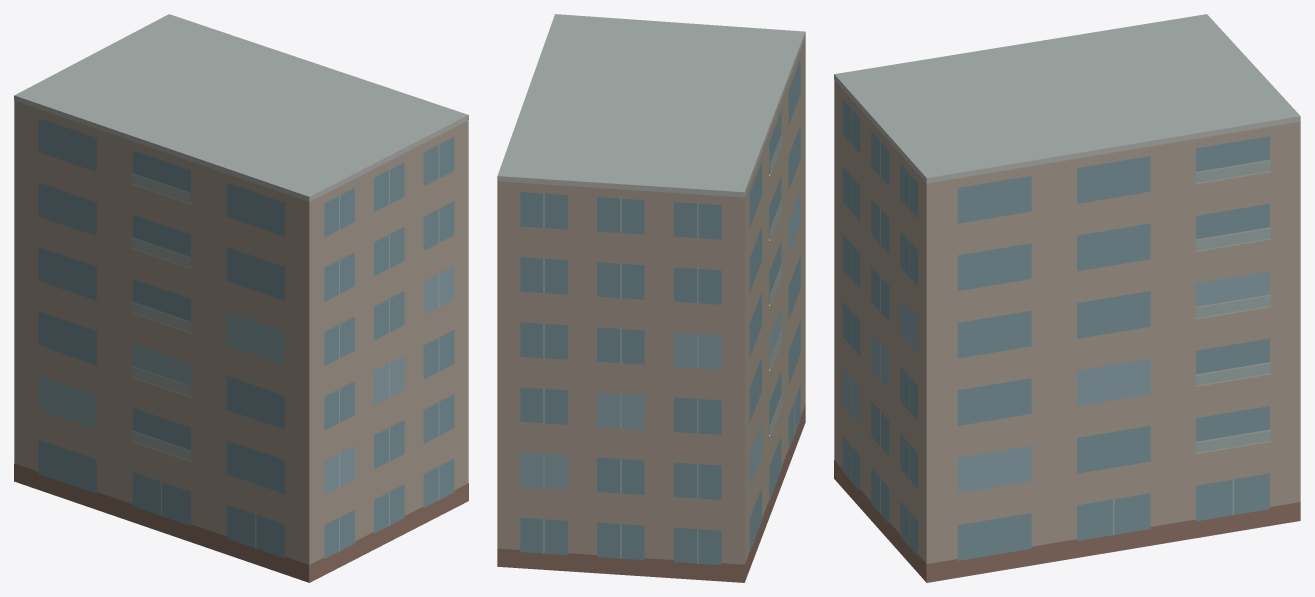
Rendered from survey-upis-32986943.glb.
3 views of the same model, side by side, from view 1: azimuth 30°, elevation 25°; view 2: azimuth 150°, elevation 25°; view 3: azimuth 270°, elevation 25° (orthographic). The views are drawn at different scales.
Visible parts, largest first — view 1: survey-upis-32986943.tmp; view 2: survey-upis-32986943.tmp; view 3: survey-upis-32986943.tmp.
Part boxes in pixels (box(x1,y1,x2,y2)): survey-upis-32986943.tmp: box(14, 14, 468, 582); survey-upis-32986943.tmp: box(497, 14, 805, 582); survey-upis-32986943.tmp: box(834, 14, 1300, 582).
Size of the model in its own units: 15.85 by 18.2 by 19.02.
